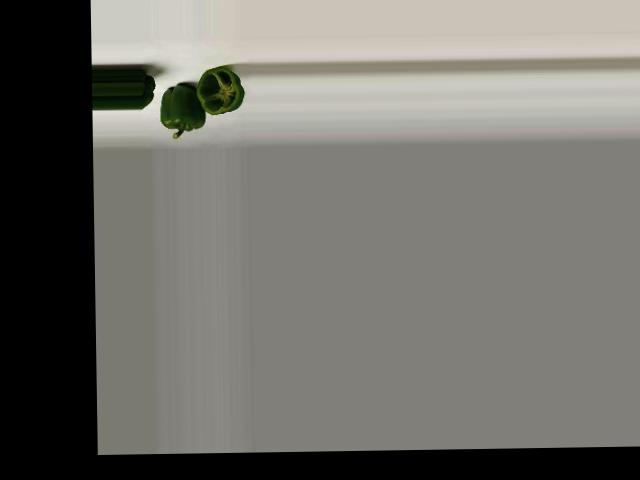bell_pepper: (193, 63, 247, 120)
